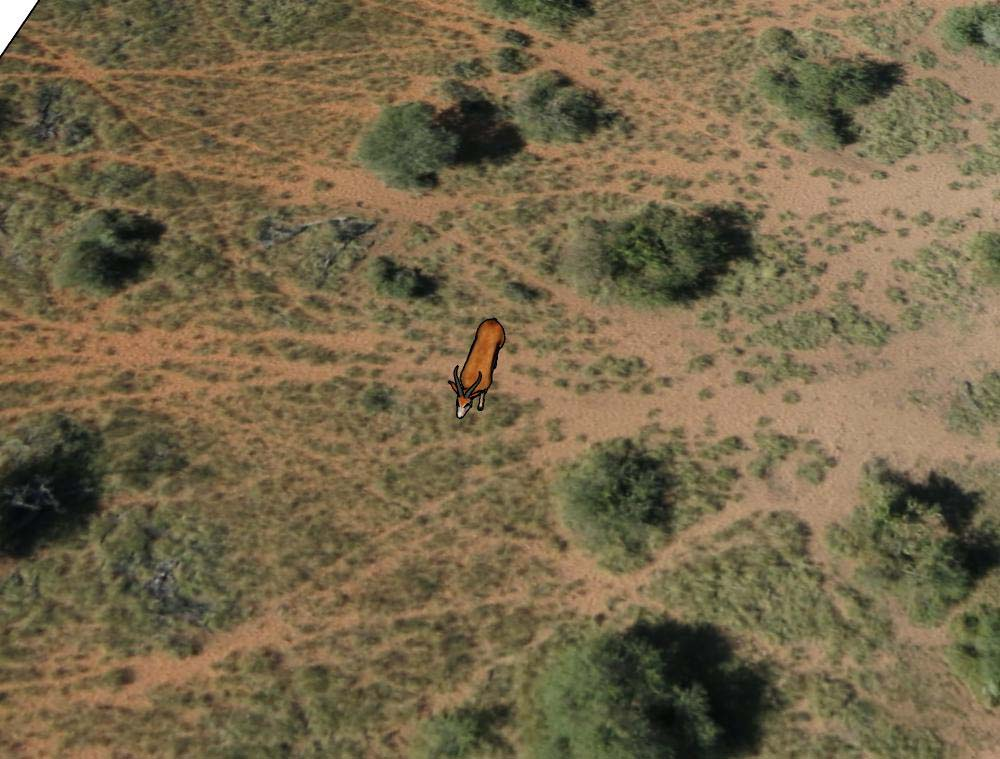springbok: (451, 313, 509, 425)
